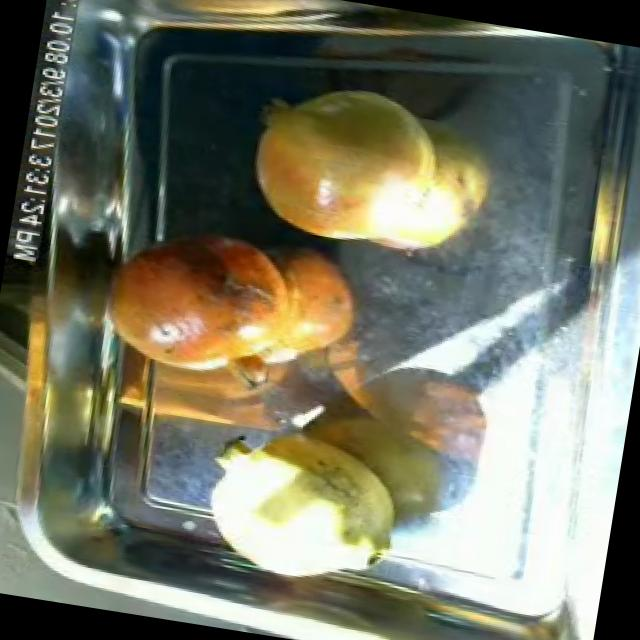fruit: (226, 62, 466, 264), (185, 404, 427, 604), (87, 208, 315, 396)
